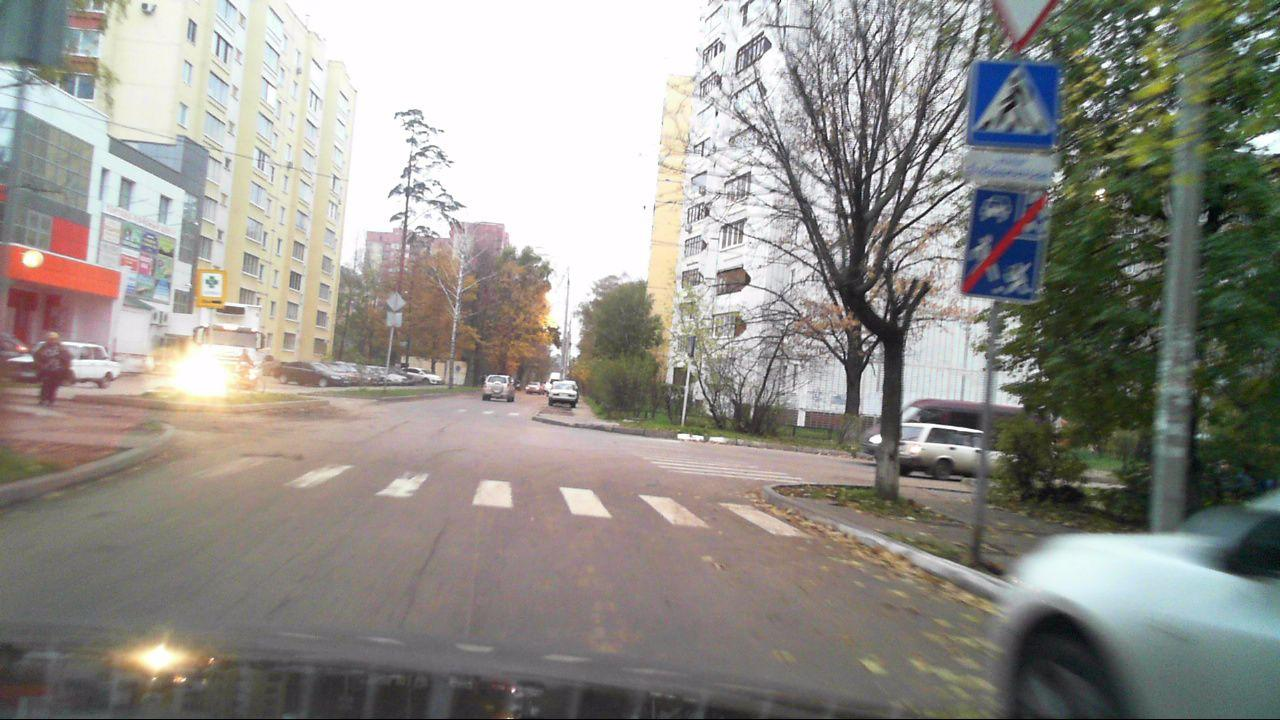2_4: (988, 0, 1058, 49)
5_19_1: (968, 57, 1054, 147)
5_22: (966, 191, 1045, 301)
